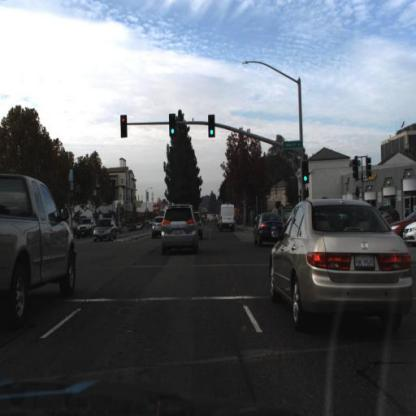car: (268, 194, 416, 339), (1, 172, 79, 330), (157, 200, 203, 260), (250, 209, 287, 252), (216, 199, 240, 240), (91, 215, 121, 246), (388, 207, 416, 236), (151, 209, 165, 245), (151, 211, 165, 244), (221, 204, 237, 227), (129, 224, 137, 234), (137, 223, 145, 233)
trafficLight: (119, 112, 132, 143), (206, 113, 220, 141), (167, 111, 179, 142), (303, 162, 312, 185)
trafficLight-Green: (300, 159, 312, 188)
